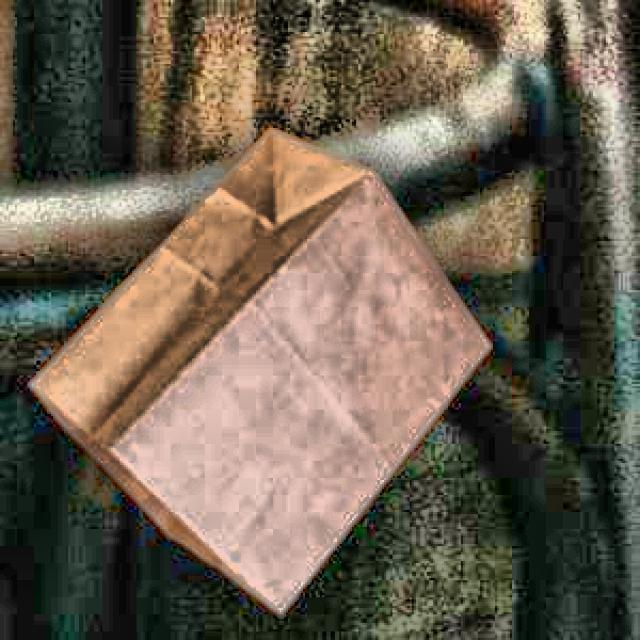Paper-bag: (0, 116, 522, 627)
